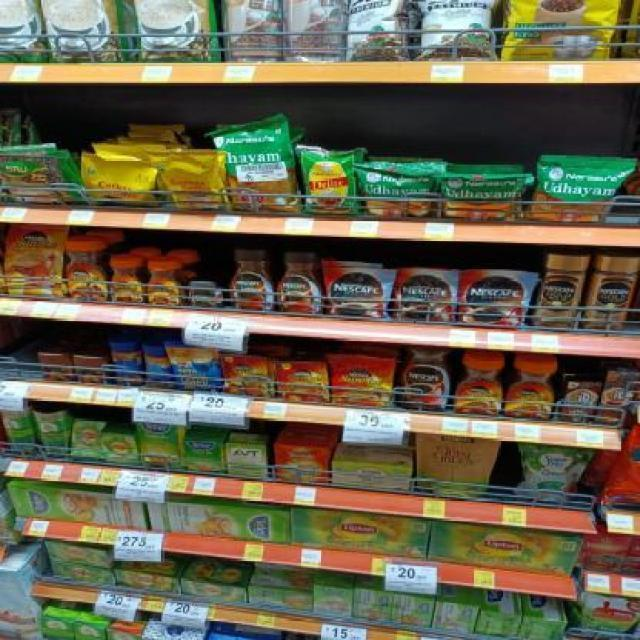Coffee: (6, 225, 65, 298), (536, 255, 587, 330), (460, 272, 526, 329), (589, 257, 636, 334), (398, 344, 450, 411), (322, 267, 389, 318), (396, 268, 454, 324), (504, 362, 556, 420), (229, 248, 276, 310), (279, 250, 323, 314), (333, 360, 390, 406), (457, 359, 503, 415), (66, 242, 108, 299), (145, 259, 180, 306), (110, 259, 143, 302), (185, 281, 224, 308)
